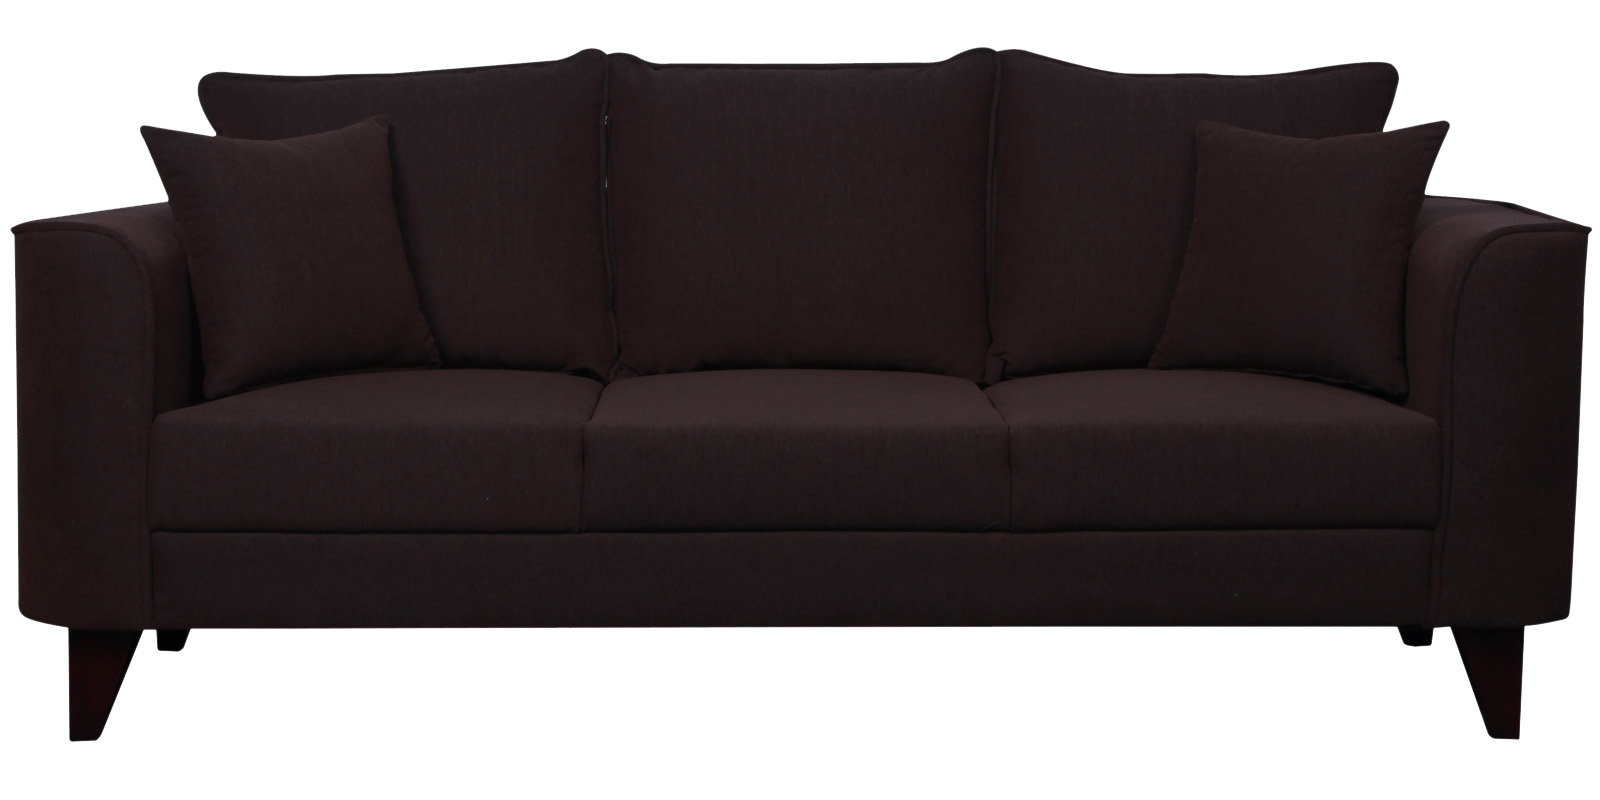Lara Three Seater Sofa in Chestnut Brown Colour by CasaCraft: (13, 47, 1593, 742)
